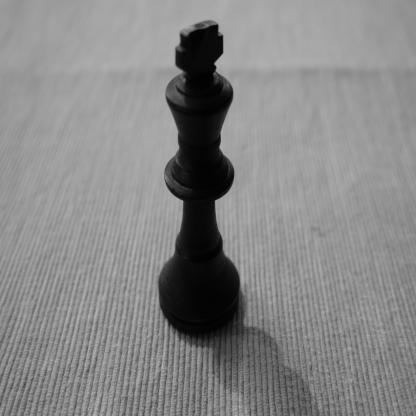black-king: (156, 19, 242, 339)
